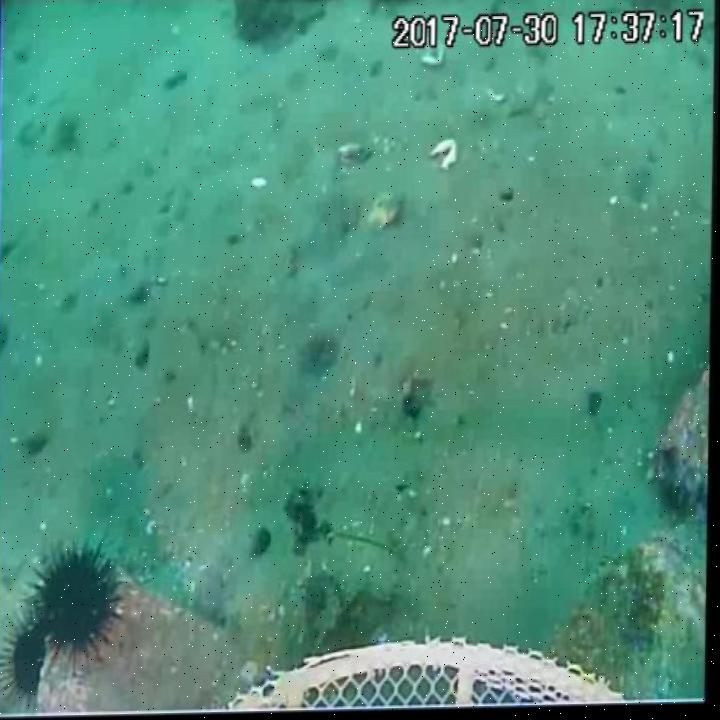echinus: (36, 543, 123, 657), (14, 623, 53, 699)
